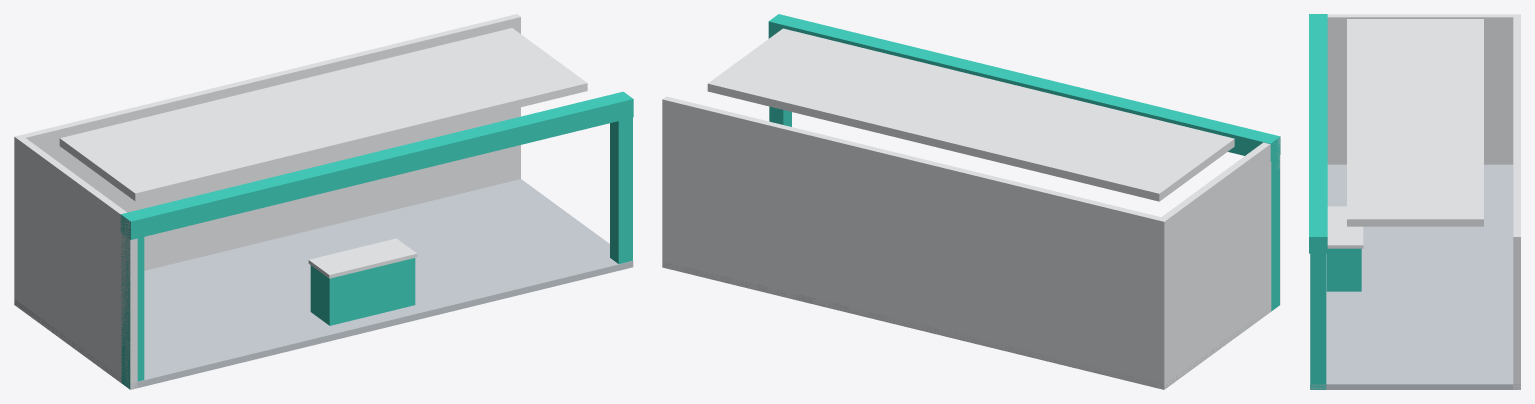
3 views of the same model, side by side, from view 1: azimuth 30°, elevation 25°; view 2: azimuth 150°, elevation 25°; view 3: azimuth 270°, elevation 25° (orthographic). The views are drawn at different scales.
Visible parts, largest first — view 1: Exhibition Booth Concept; view 2: Exhibition Booth Concept; view 3: Exhibition Booth Concept.
Boxes of the visible parts, x1,y1,x2,y2 form: Exhibition Booth Concept: (14, 14, 633, 389); Exhibition Booth Concept: (662, 14, 1280, 389); Exhibition Booth Concept: (1309, 14, 1520, 389).
Bounding box in the file's own units: 10 × 3.34 × 4.02.
